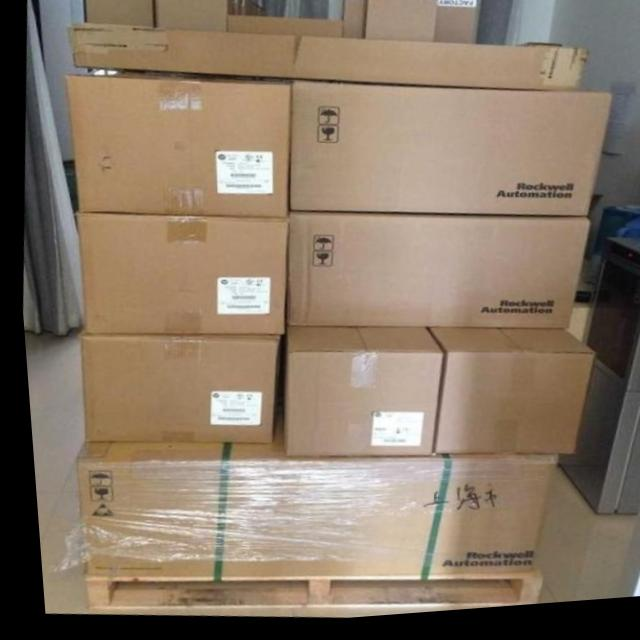box: (69, 413, 549, 581), (286, 84, 610, 224), (281, 215, 587, 336), (63, 75, 289, 222), (71, 213, 284, 338), (74, 330, 273, 448), (420, 333, 590, 462), (275, 329, 438, 461)
